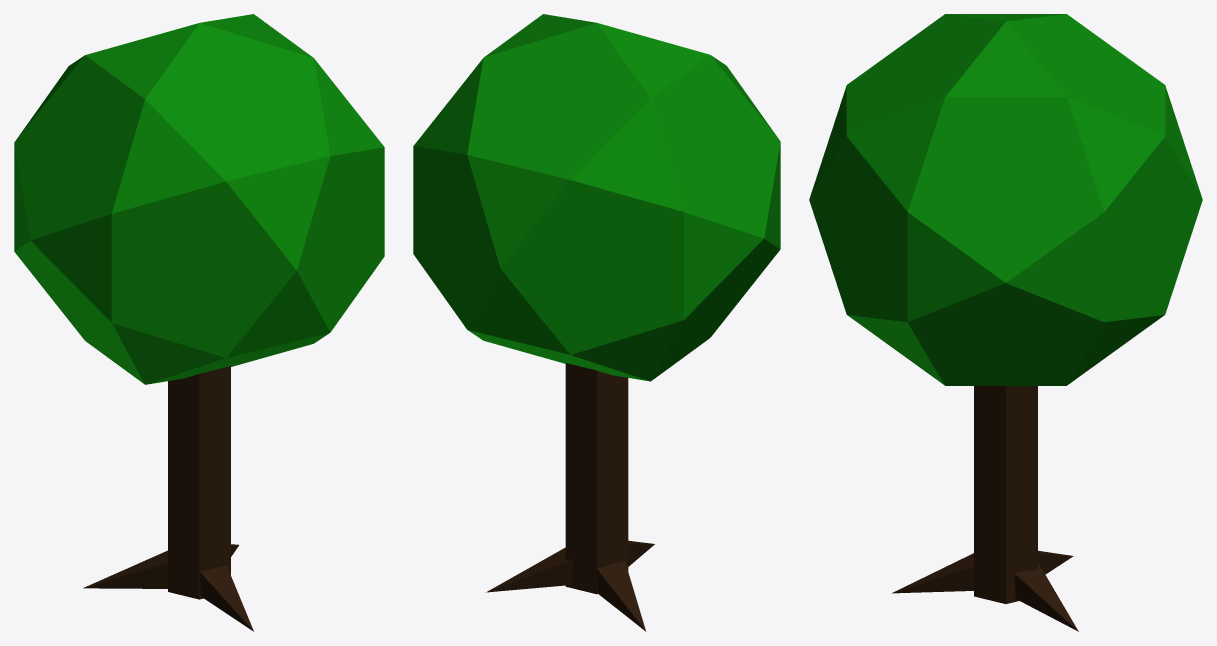
Rendered from tree.obj.
3 renders of one model, left to right at view 1: azimuth 30°, elevation 25°; view 2: azimuth 150°, elevation 25°; view 3: azimuth 270°, elevation 25°, orthographic.
Parts seen in each view (by area): view 1: Hedra004, Pyramid003; view 2: Hedra004, Pyramid003; view 3: Hedra004, Pyramid003.
Part boxes in pixels (x1,y1,x2,y2): Hedra004: (14,14,384,384); Pyramid003: (83,366,253,631); Hedra004: (413,14,780,381); Pyramid003: (486,363,654,631); Hedra004: (809,14,1202,385); Pyramid003: (892,386,1078,631).
Bounding box in the file's own units: 64 × 103 × 64.
